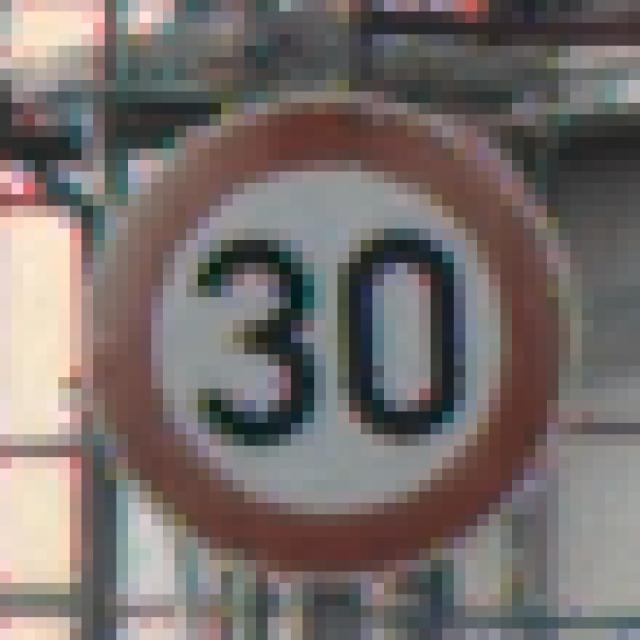Speed Limit -30-: (64, 51, 576, 566)
